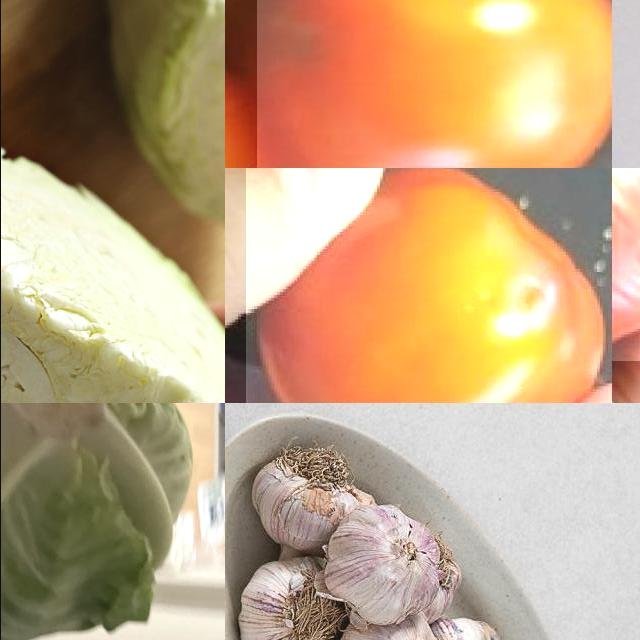cabbage: (1, 142, 225, 404), (1, 404, 202, 640), (104, 1, 225, 233)
garlic: (326, 514, 441, 624), (252, 453, 359, 553), (230, 559, 345, 640), (330, 612, 446, 640)
tomato: (247, 169, 612, 404), (257, 1, 612, 169), (225, 43, 311, 169)
